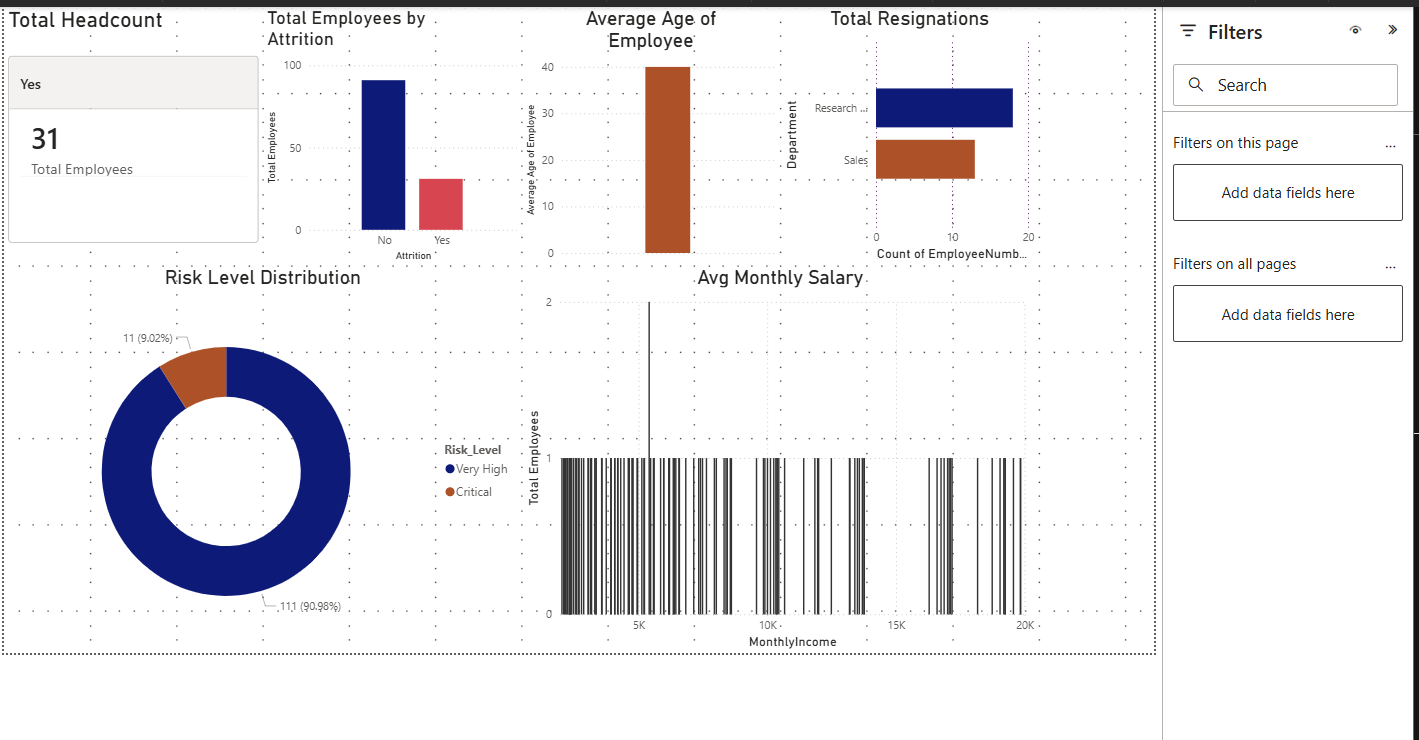

Layout of this report page (visuals, bound fields, positions):
{"tool":"powerbi","page":{"name":"Page 1","canvas":[1280,720],"ordinal":0},"visuals":[{"type":"clusteredBarChart","title":"Total Resignations","fields":{"Category":["high_risk_employees.Department"],"Y":["CountNonNull(high_risk_employees.EmployeeNumber)"]},"box":[864,0,288,288],"z":0},{"type":"donutChart","title":"Risk Level Distribution","fields":{"Category":["high_risk_employees.Risk_Level"],"Y":["CountNonNull(high_risk_employees.EmployeeNumber)"]},"box":[0,288,576,432],"z":1000},{"type":"clusteredColumnChart","title":"Avg Monthly Salary","fields":{"Category":["high_risk_employees.MonthlyIncome"],"Y":["high_risk_employees.Total Employees"]},"box":[576,288,576,432],"z":2000},{"type":"cardVisual","title":"Total Headcount","fields":{"Rows":["high_risk_employees.Attrition"],"Data":["high_risk_employees.Total Employees"]},"box":[0,0,288,288],"z":3000},{"type":"clusteredColumnChart","fields":{"Category":["high_risk_employees.Attrition"],"Y":["high_risk_employees.Total Employees"]},"box":[288,0,288,288],"z":4000},{"type":"clusteredColumnChart","fields":{"Y":["Avg(high_risk_employees.Age)"]},"box":[576,0,288,288],"z":5000}]}

Visuals, with their boxes on the page's 1280x720 design canvas (x1, y1, x2, y2). These are canvas units, not pixel positions in the 1419x740 screenshot, which may show the page scaled, cropped or inside an application window:
"Total Resignations" clusteredBarChart: 864,0,1152,288
"Risk Level Distribution" donutChart: 0,288,576,720
"Avg Monthly Salary" clusteredColumnChart: 576,288,1152,720
"Total Headcount" cardVisual: 0,0,288,288
clusteredColumnChart - high_risk_employees.Attrition x high_risk_employees.Total Employees: 288,0,576,288
clusteredColumnChart - Avg(high_risk_employees.Age): 576,0,864,288
